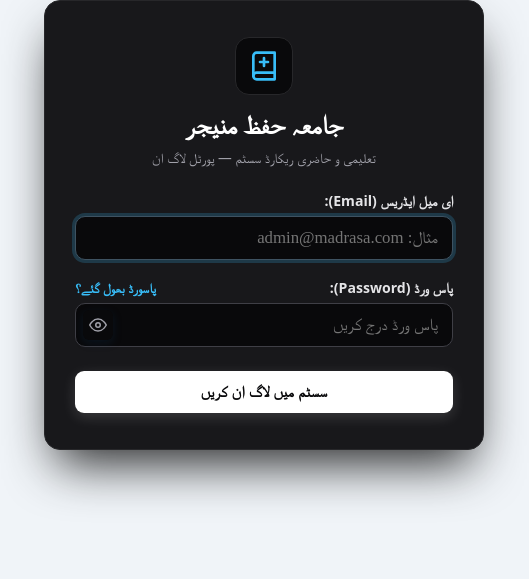
Test: Login Component › handles invalid credentials with appropriate error message
In the field labelled "ای میل ایڈریس (Email):": (264, 238) [75,216,453,260], type "wrong@test.com"
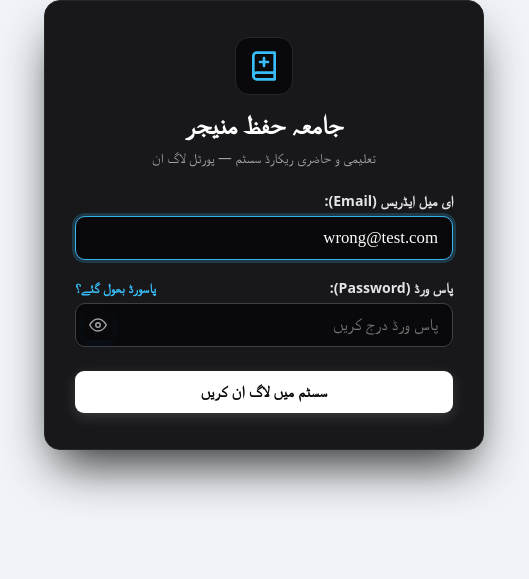
In the password field with placeholder "پاس ورڈ درج کریں": (264, 325) [75,303,453,347], type "wrongpass"
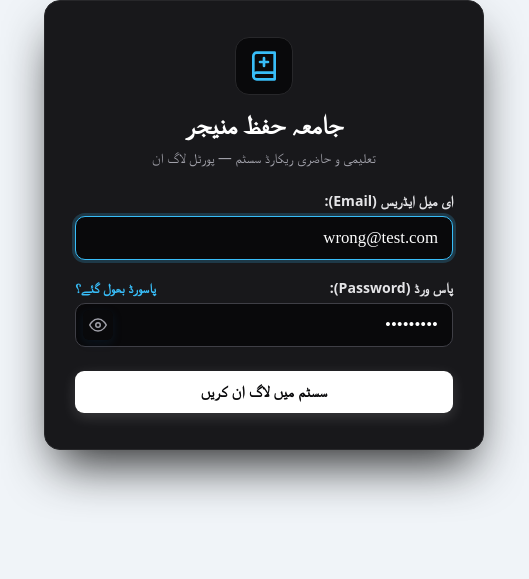
Click the button "سسٹم میں لاگ ان کریں": click(264, 392) [75,371,453,413]
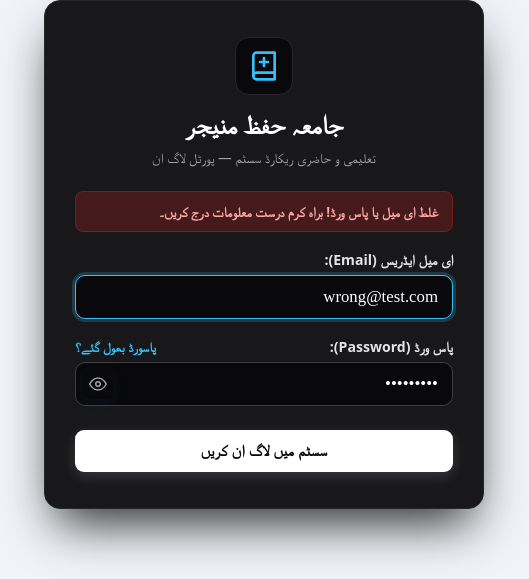
expect the message shows "غلط ای میل یا پاس ورڈ": met, box [159,202,438,221]
